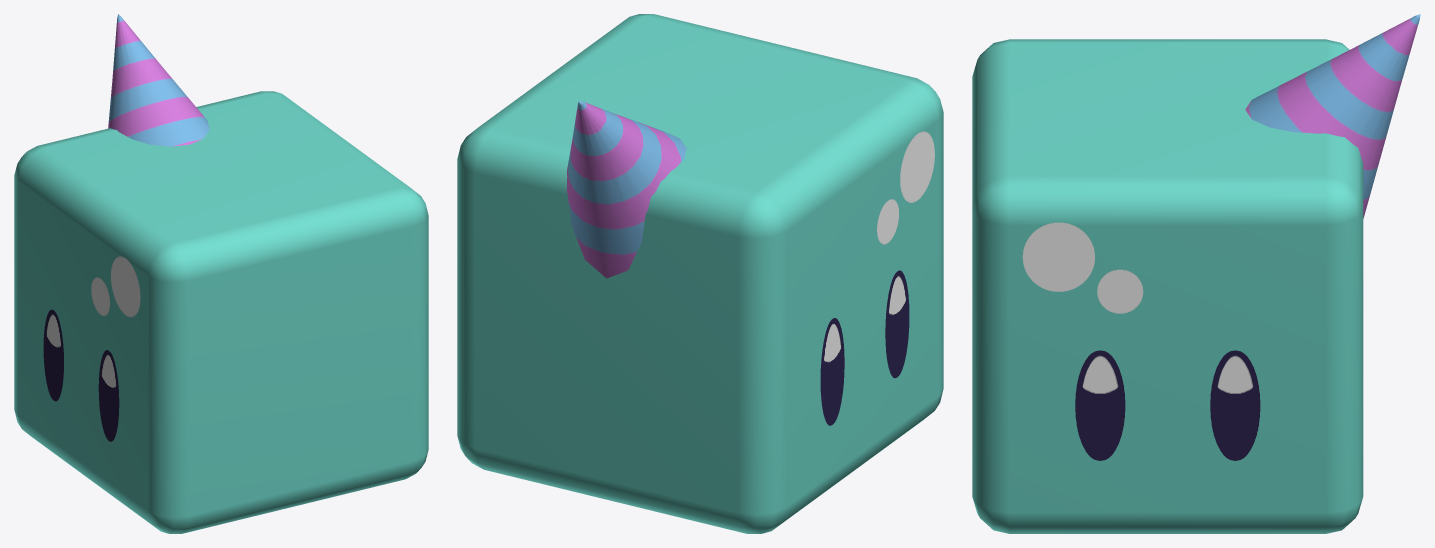
File: SlimeCube.fbx
3 views of the same model, side by side, from view 1: azimuth 30°, elevation 25°; view 2: azimuth 150°, elevation 25°; view 3: azimuth 270°, elevation 25° (orthographic). The views are drawn at different scales.
Visible parts, largest first — view 1: Body_GEO, Hat_GEO, Eye_L, Eye_R, ShineBig, ShineSmall; view 2: Body_GEO, Hat_GEO, Eye_L, Eye_R, ShineBig, ShineSmall; view 3: Body_GEO, Hat_GEO, Eye_R, Eye_L, ShineBig, ShineSmall.
Part boxes in pixels (x1=…): Body_GEO: x1=14, y1=91, x2=428, y2=533; Hat_GEO: x1=108, y1=14, x2=209, y2=146; Eye_L: x1=98, y1=350, x2=119, y2=441; Eye_R: x1=43, y1=309, x2=63, y2=401; ShineBig: x1=111, y1=256, x2=140, y2=317; ShineSmall: x1=91, y1=277, x2=109, y2=315; Body_GEO: x1=457, y1=14, x2=943, y2=533; Hat_GEO: x1=566, y1=101, x2=686, y2=278; Eye_L: x1=885, y1=270, x2=909, y2=378; Eye_R: x1=820, y1=318, x2=844, y2=425; ShineBig: x1=900, y1=131, x2=934, y2=202; ShineSmall: x1=877, y1=199, x2=899, y2=244; Body_GEO: x1=972, y1=39, x2=1363, y2=533; Hat_GEO: x1=1245, y1=14, x2=1420, y2=218; Eye_R: x1=1210, y1=350, x2=1260, y2=460; Eye_L: x1=1075, y1=350, x2=1125, y2=460; ShineBig: x1=1022, y1=222, x2=1094, y2=291; ShineSmall: x1=1097, y1=269, x2=1143, y2=313.
Bounding box in the file's own units: 85.04 × 107 × 96.19.
